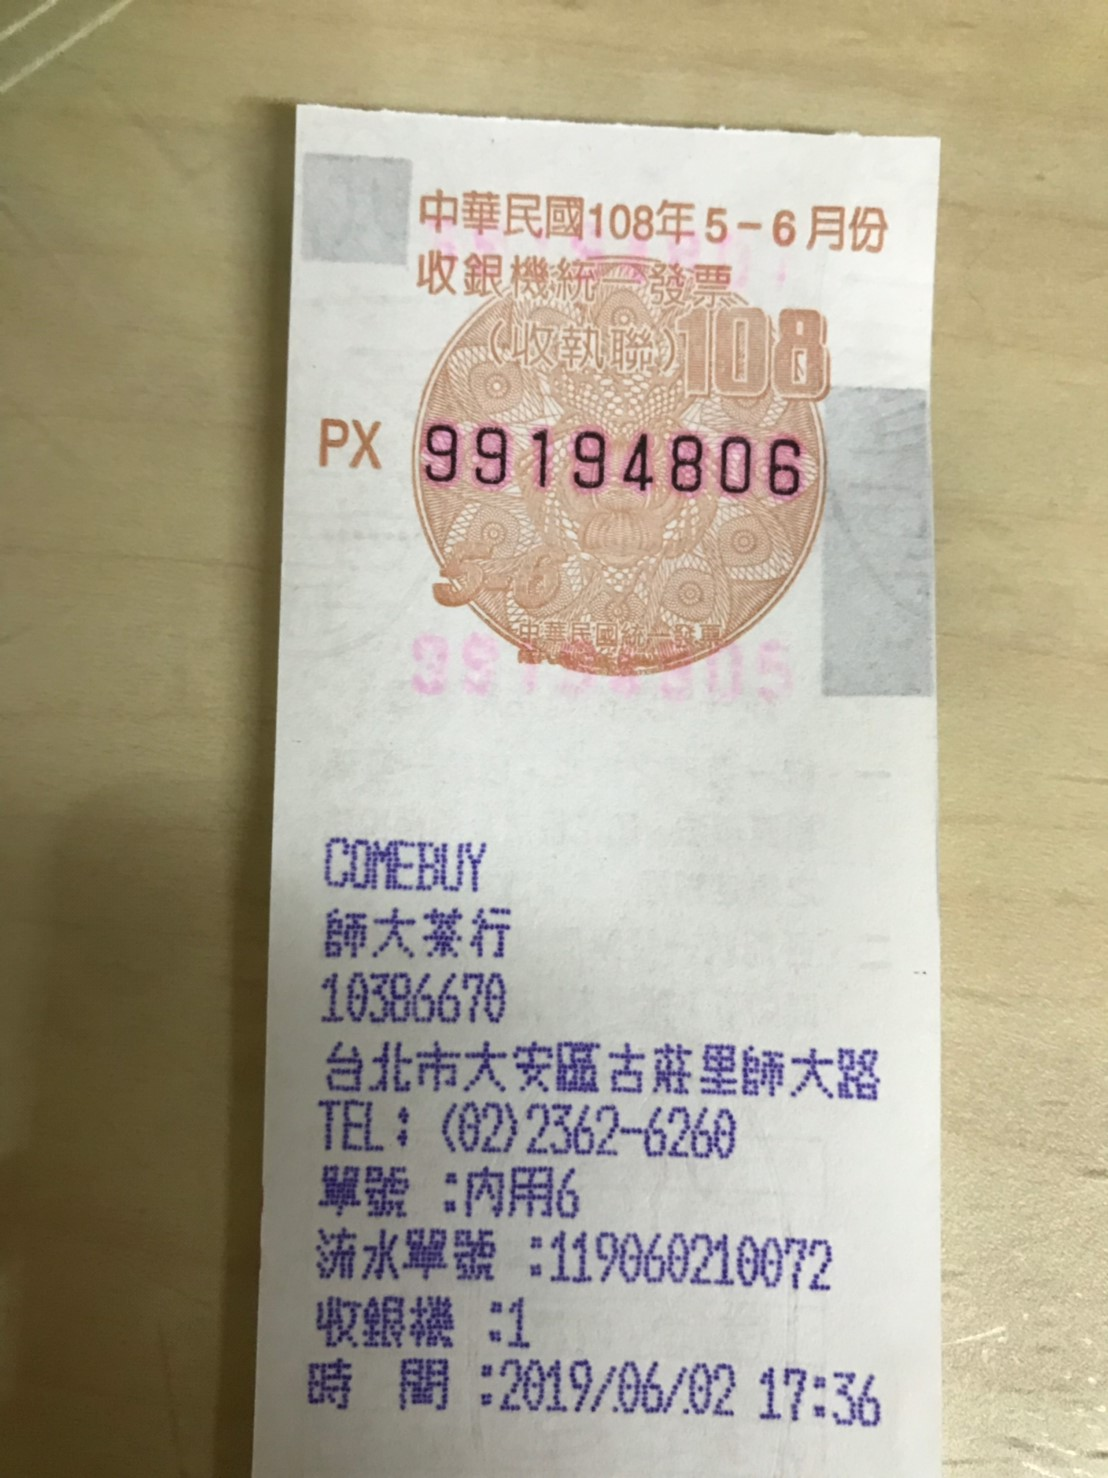Date_Old: (585, 190, 893, 254)
Number_Old: (417, 417, 807, 498)
